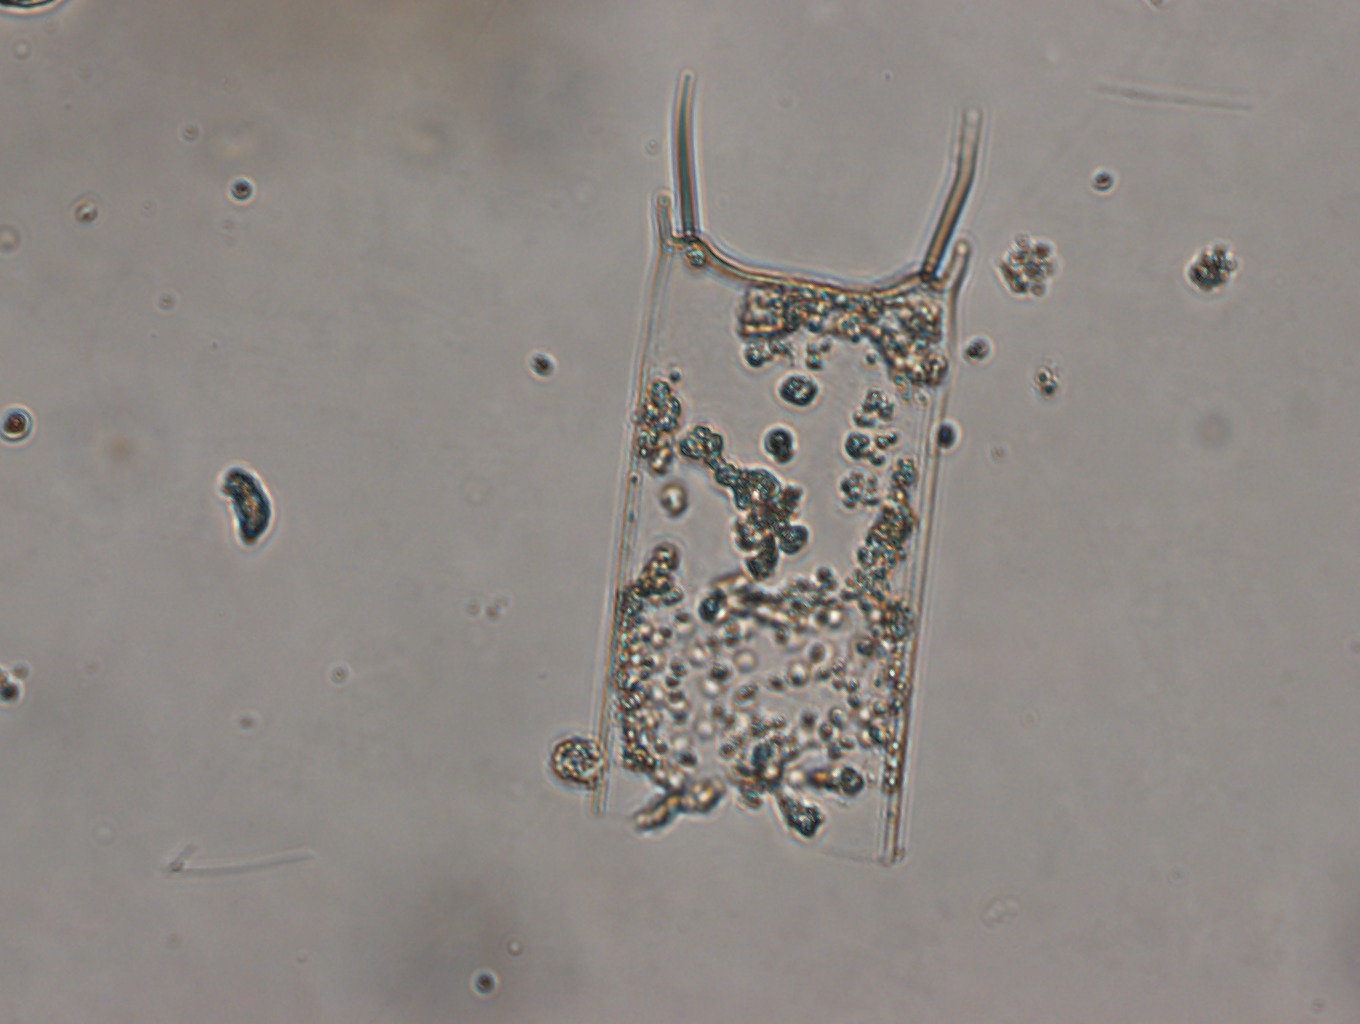biddulphia: (595, 69, 986, 865)
